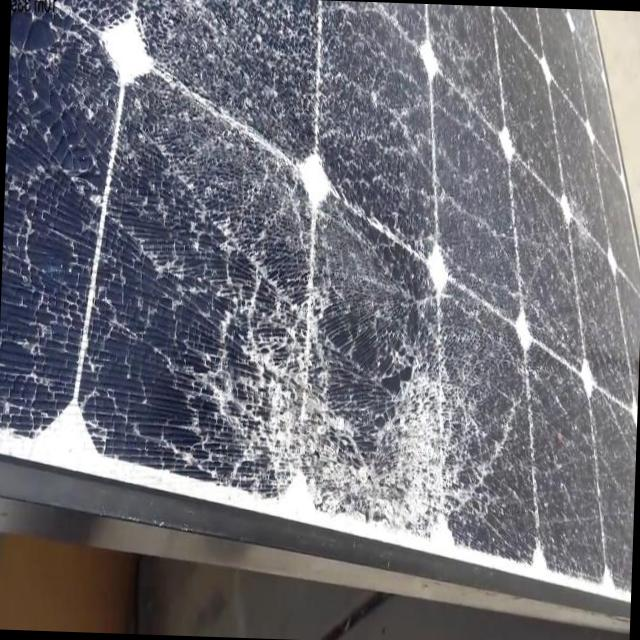faulty: (5, 0, 637, 601), (158, 301, 520, 518)
